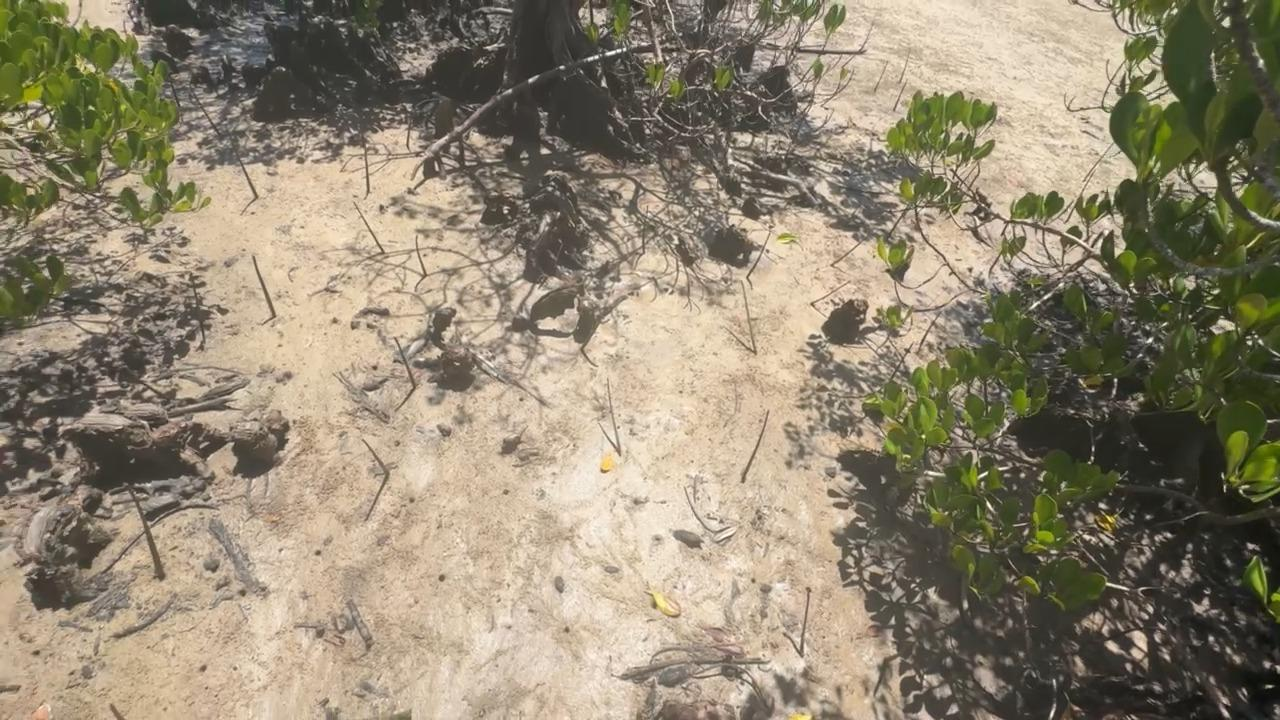Tree: (125, 483, 166, 581), (226, 130, 259, 199), (684, 485, 731, 533), (741, 410, 770, 483), (1064, 170, 1097, 224), (353, 201, 386, 253), (189, 85, 221, 136), (252, 255, 277, 318), (842, 22, 875, 68), (1082, 142, 1114, 182), (741, 279, 758, 354), (746, 232, 772, 279), (393, 336, 416, 389), (607, 377, 622, 455), (190, 272, 206, 343), (830, 237, 868, 266), (362, 439, 390, 477), (810, 280, 851, 305), (799, 586, 812, 657), (1046, 199, 1075, 225), (581, 318, 602, 351), (887, 207, 910, 237), (415, 234, 427, 277), (893, 78, 908, 111), (874, 60, 888, 92), (899, 48, 910, 83), (988, 252, 1002, 278), (169, 78, 181, 107), (363, 144, 370, 191), (72, 0, 83, 29), (109, 702, 125, 720), (643, 205, 649, 253), (406, 113, 412, 148), (1112, 150, 1122, 158), (122, 20, 126, 34)
